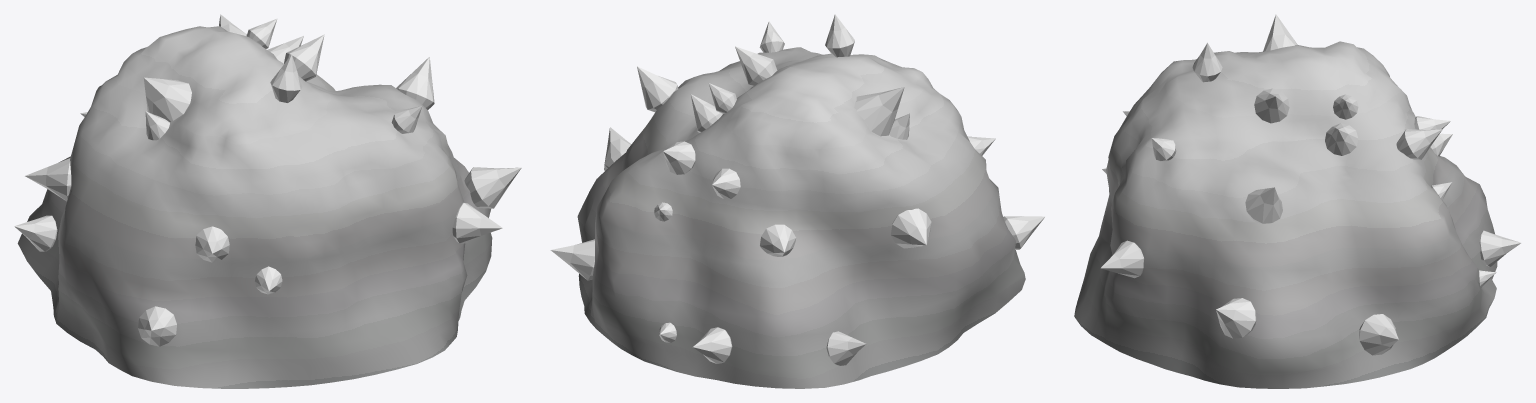
File: MineNew.fbx
3 views of the same model, side by side, from view 1: azimuth 30°, elevation 25°; view 2: azimuth 150°, elevation 25°; view 3: azimuth 270°, elevation 25° (orthographic). The views are drawn at different scales.
Visible parts, largest first — view 1: MineNew; view 2: MineNew; view 3: MineNew.
Boxes of the visible parts, x1=… form: MineNew: x1=14, y1=14, x2=521, y2=388; MineNew: x1=550, y1=14, x2=1044, y2=388; MineNew: x1=1074, y1=14, x2=1520, y2=388.
Size of the model in its own units: 4.52 by 2.88 by 4.48.
